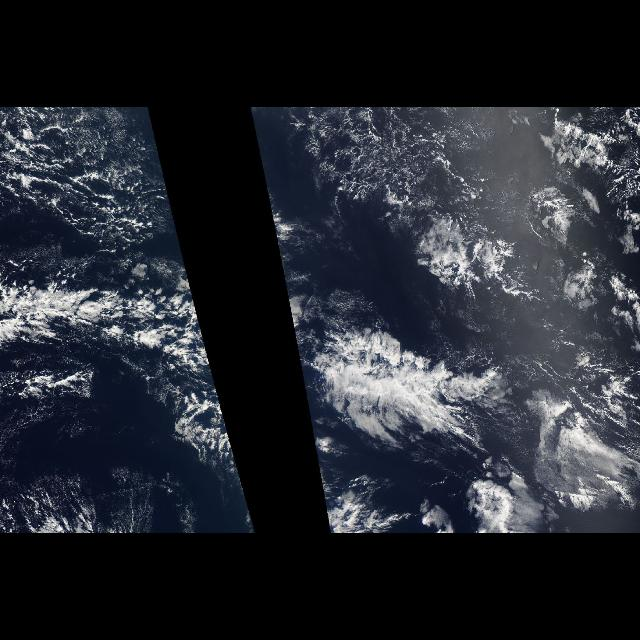Fish: (3, 267, 241, 478), (283, 267, 481, 478)
Flower: (364, 115, 636, 367)
Gravel: (2, 110, 162, 276)
Sugar: (272, 110, 518, 220)
